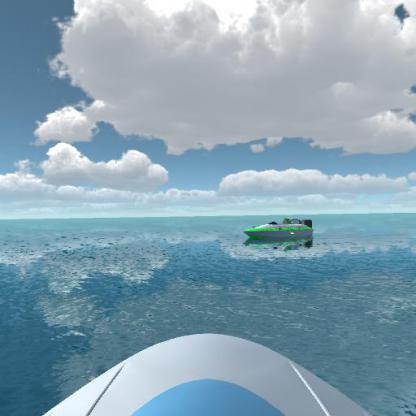usv0: (238, 207, 319, 249)
